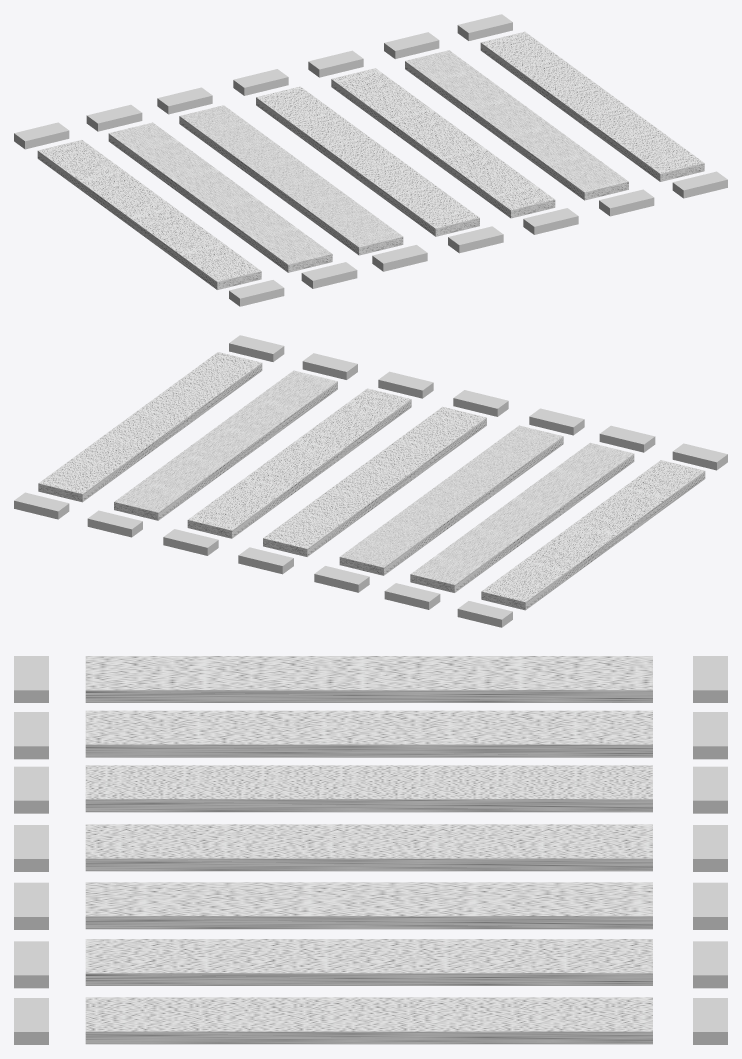
The model's file is zebrapad.fbx.
3 renders of one model, top to bottom at view 1: azimuth 30°, elevation 25°; view 2: azimuth 150°, elevation 25°; view 3: azimuth 270°, elevation 25°, orthographic. The views are drawn at different scales.
Parts seen in each view (by area): view 1: streep1, streep5, streep6, streep3, streep7, streep2, streep4, streep7.013, streep7.002, streep7.006, streep7.003, streep7.010 (+9 smaller); view 2: streep1, streep5, streep6, streep7, streep3, streep2, streep4, streep7.002, streep7.013, streep7.009, streep7.005, streep7.012 (+9 smaller); view 3: streep1, streep3, streep4, streep5, streep6, streep2, streep7, streep7.002, streep7.003, streep7.005, streep7.006, streep7.009 (+9 smaller).
Part boxes in pixels (bbox=[...]): streep1: bbox=[480, 31, 704, 181]; streep5: bbox=[179, 105, 403, 255]; streep6: bbox=[108, 122, 332, 272]; streep3: bbox=[331, 68, 555, 218]; streep7: bbox=[37, 140, 261, 289]; streep2: bbox=[405, 50, 628, 200]; streep4: bbox=[256, 86, 479, 236]; streep7.013: bbox=[86, 104, 142, 131]; streep7.002: bbox=[301, 262, 357, 288]; streep7.006: bbox=[599, 189, 654, 216]; streep7.003: bbox=[372, 245, 427, 271]; streep7.010: bbox=[308, 50, 363, 77]; streep1: bbox=[38, 352, 262, 502]; streep5: bbox=[339, 425, 563, 575]; streep6: bbox=[410, 442, 634, 592]; streep7: bbox=[481, 460, 705, 610]; streep3: bbox=[187, 388, 411, 538]; streep2: bbox=[114, 370, 337, 520]; streep4: bbox=[263, 406, 486, 556]; streep7.002: bbox=[599, 425, 655, 452]; streep7.013: bbox=[384, 583, 440, 609]; streep7.009: bbox=[87, 510, 142, 537]; streep7.005: bbox=[378, 371, 433, 398]; streep7.012: bbox=[314, 566, 369, 592]; streep1: bbox=[85, 997, 652, 1044]; streep3: bbox=[85, 882, 652, 929]; streep4: bbox=[85, 824, 652, 871]; streep5: bbox=[85, 765, 652, 812]; streep6: bbox=[85, 710, 652, 757]; streep2: bbox=[85, 939, 652, 985]; streep7: bbox=[85, 656, 652, 702]; streep7.002: bbox=[14, 712, 48, 759]; streep7.003: bbox=[14, 766, 48, 813]; streep7.005: bbox=[14, 882, 48, 929]; streep7.006: bbox=[14, 941, 48, 988]; streep7.009: bbox=[693, 941, 727, 988].
Size of the model in its own units: 2201 by 35.17 by 1767.
